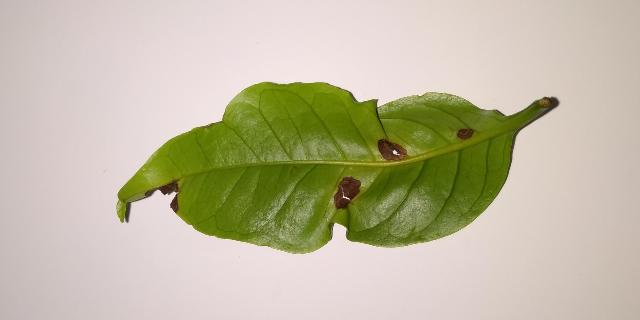rust: (333, 177, 361, 209), (157, 180, 179, 212), (378, 138, 407, 161), (456, 128, 474, 140)
